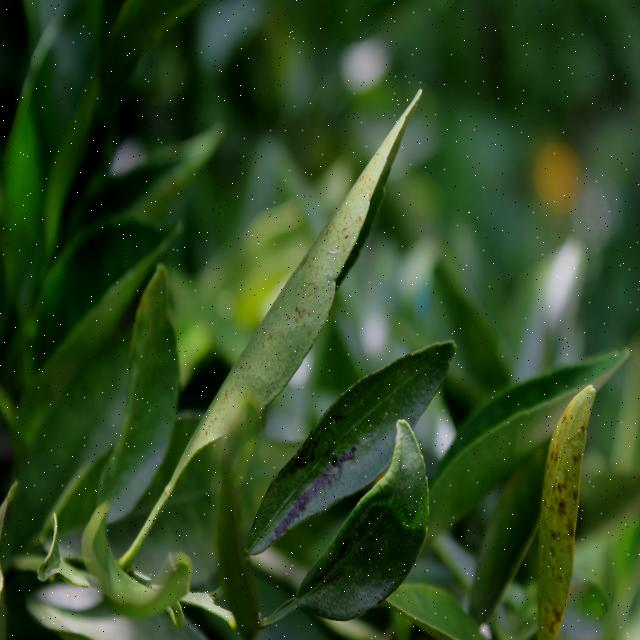melanose: (185, 88, 422, 448), (533, 380, 607, 640)
